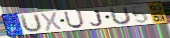5: (130, 5, 150, 24)
J: (90, 9, 105, 27)
U: (19, 13, 43, 34), (108, 6, 132, 26), (63, 10, 85, 29)
X: (40, 12, 64, 32)
